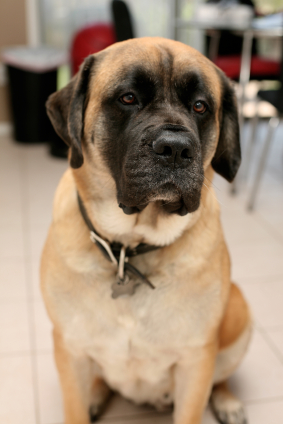mastiff: (38, 36, 253, 424)
